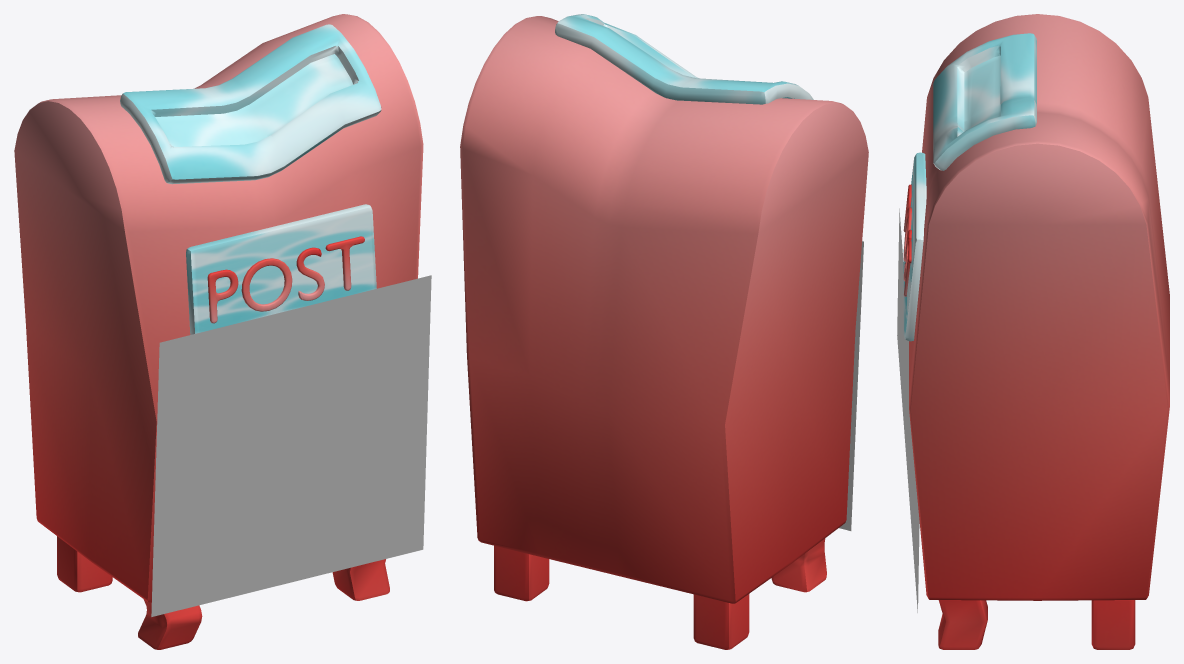
Rendered from Mailbox_B_red.fbx.
The picture shows the model from 3 angles, left to right: view 1: azimuth 30°, elevation 25°; view 2: azimuth 150°, elevation 25°; view 3: azimuth 270°, elevation 25°; orthographic projection.
Parts seen in each view (by area): view 1: MailboxB_red; view 2: MailboxB_red; view 3: MailboxB_red.
Part boxes in pixels (x1,y1,x2,y2): MailboxB_red: (14, 14, 431, 649); MailboxB_red: (460, 14, 868, 649); MailboxB_red: (897, 14, 1169, 649).
Size of the model in its own units: 1.37 by 1.09 by 2.35.
